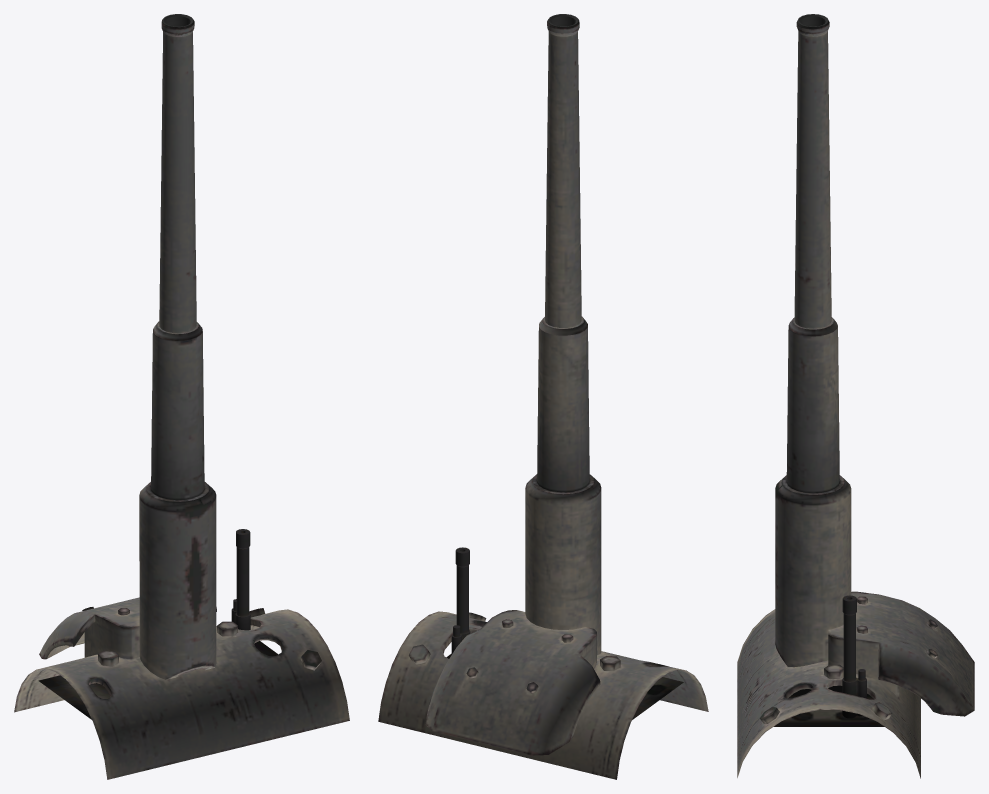
File: Gun_01.glb
The picture shows the model from 3 angles, left to right: view 1: azimuth 30°, elevation 25°; view 2: azimuth 150°, elevation 25°; view 3: azimuth 270°, elevation 25°; orthographic projection.
Visible parts, largest first — view 1: set_0_group_0; view 2: set_0_group_0; view 3: set_0_group_0.
Part boxes in pixels (x1=…): set_0_group_0: x1=14, y1=14, x2=349, y2=779; set_0_group_0: x1=378, y1=14, x2=708, y2=779; set_0_group_0: x1=737, y1=14, x2=974, y2=778.
Bounding box in the file's own units: 0.4925 × 1.37 × 0.4236.
1 material, 1 textured.
